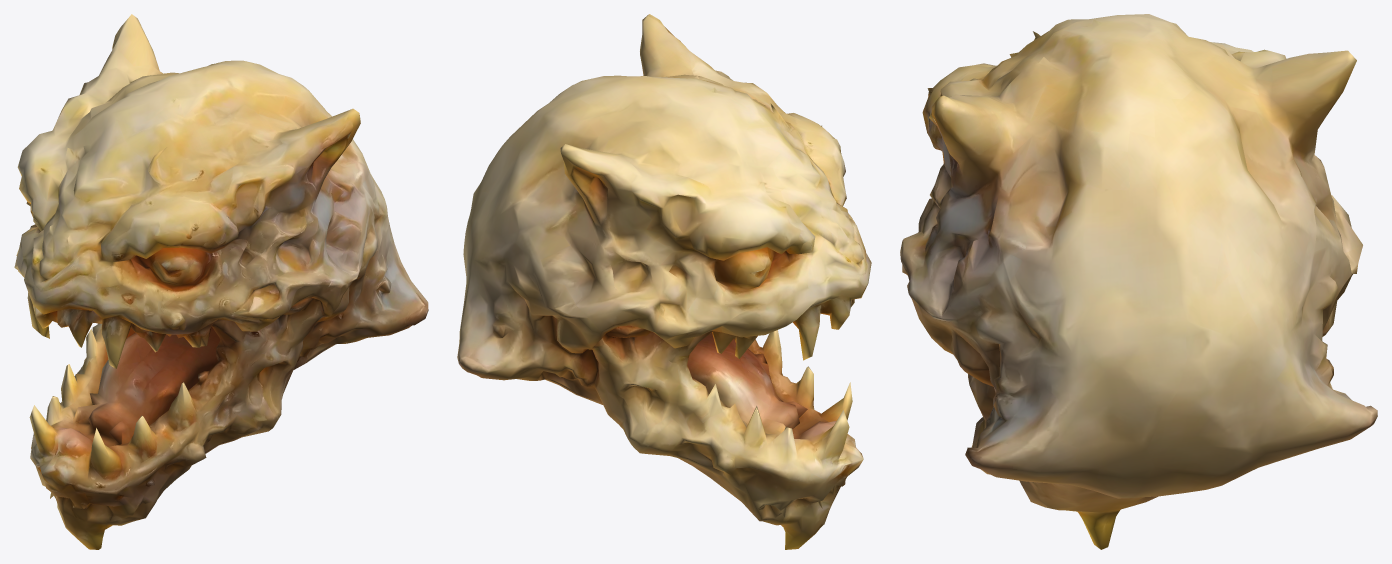
The model's file is foe_eater.glb.
3 renders of one model, left to right at view 1: azimuth 30°, elevation 25°; view 2: azimuth 150°, elevation 25°; view 3: azimuth 270°, elevation 25°, orthographic. The views are drawn at different scales.
Parts seen in each view (by area): view 1: tripo_node_0b5f49c5-2156-4e26-af40-201875c85df1; view 2: tripo_node_0b5f49c5-2156-4e26-af40-201875c85df1; view 3: tripo_node_0b5f49c5-2156-4e26-af40-201875c85df1.
Boxes of the visible parts, x1,y1,x2,y2 form: tripo_node_0b5f49c5-2156-4e26-af40-201875c85df1: (14, 14, 428, 549); tripo_node_0b5f49c5-2156-4e26-af40-201875c85df1: (457, 14, 871, 549); tripo_node_0b5f49c5-2156-4e26-af40-201875c85df1: (900, 14, 1377, 549).
Size of the model in its own units: 0.8373 by 0.9754 by 0.7264.
1 material, 1 textured.
